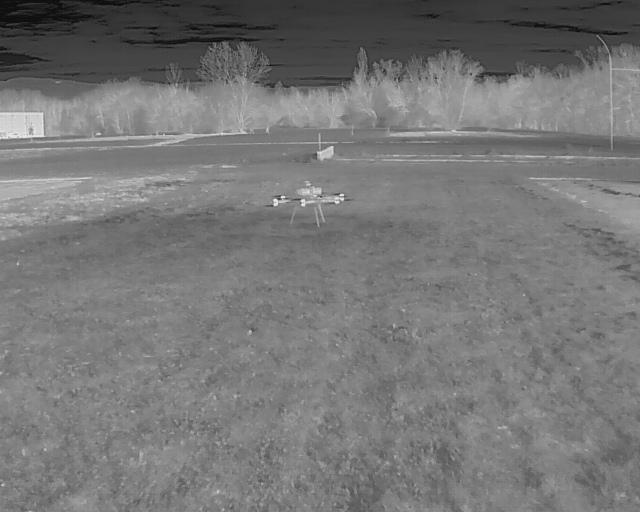drone: (266, 172, 353, 237)
